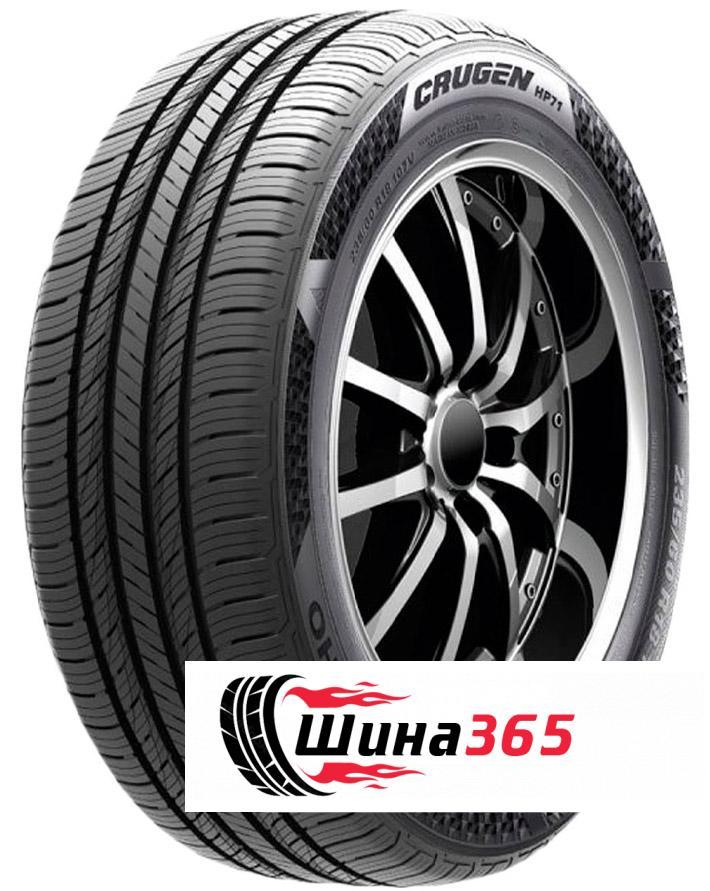objects: (185, 661, 710, 813)
